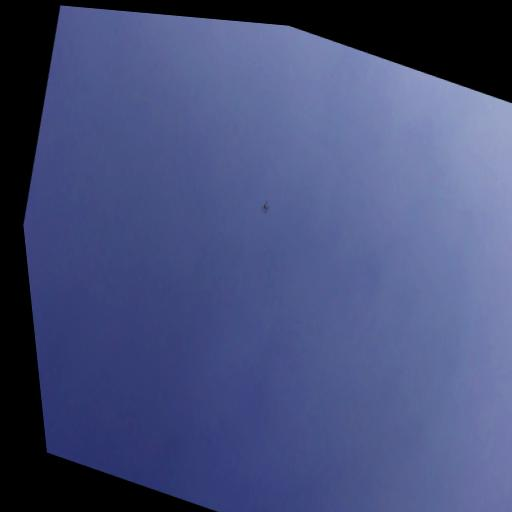drones: (257, 197, 272, 217)
